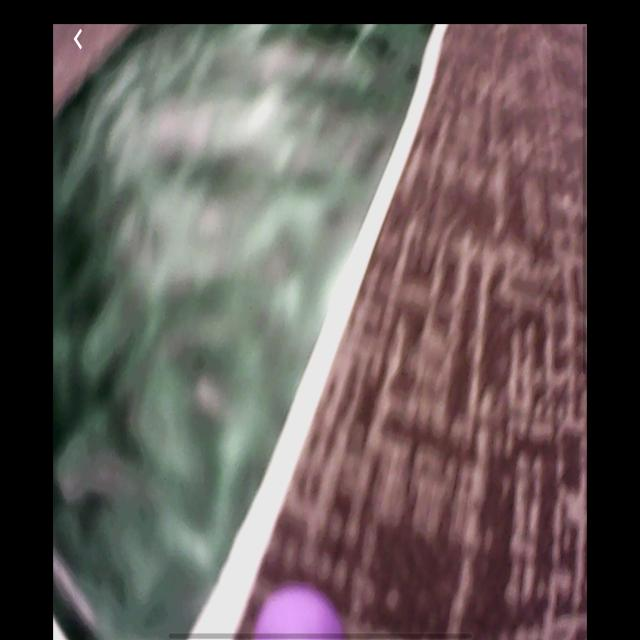ball: (255, 588, 338, 640)
